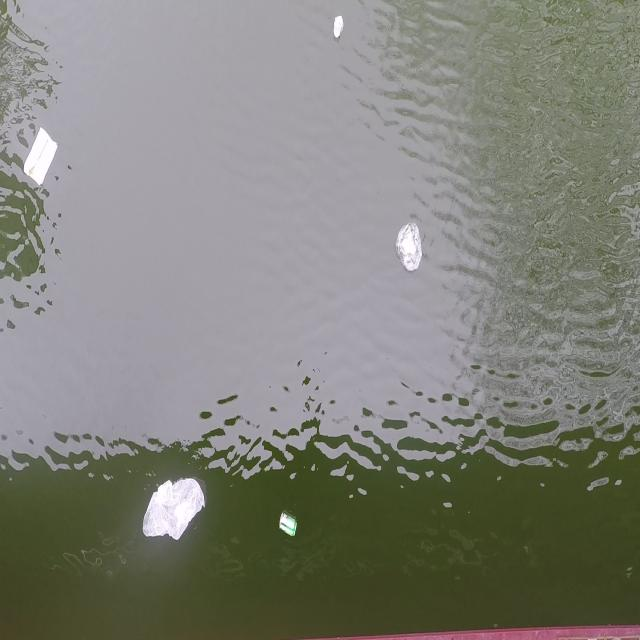Non plastique: (276, 511, 300, 542)
Sac plastique: (139, 472, 208, 554), (389, 218, 425, 280)
